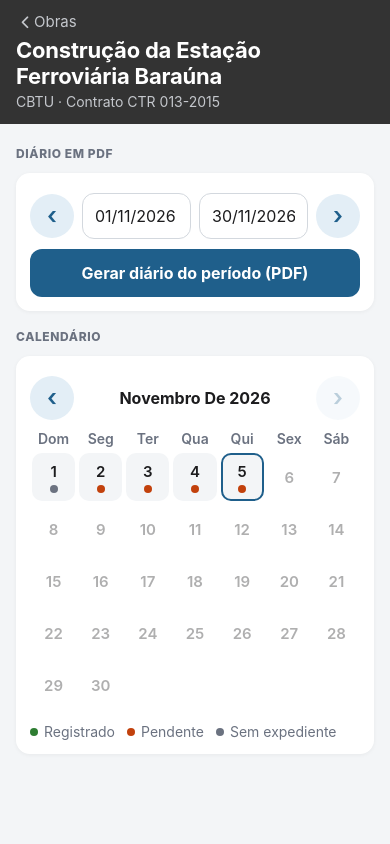
Test: DiasObraTela — escolha de período › CBTU: botão anterior gera o mês anterior
Later steps or results of the test are not shown.
Click the element with test id "periodo-anterior".
click(52, 216)  # box [30,194,74,238]
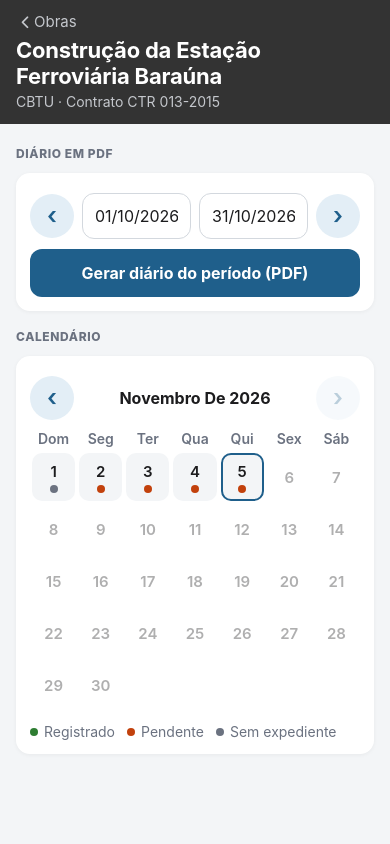
Now the field with test id "periodo-de" holds "01/10/2026", box [82,193,191,239]
